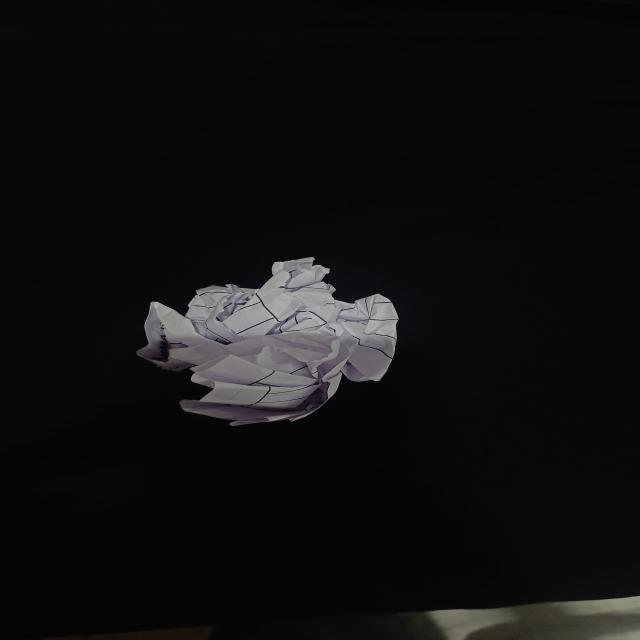PaperBall: (136, 257, 398, 422)
